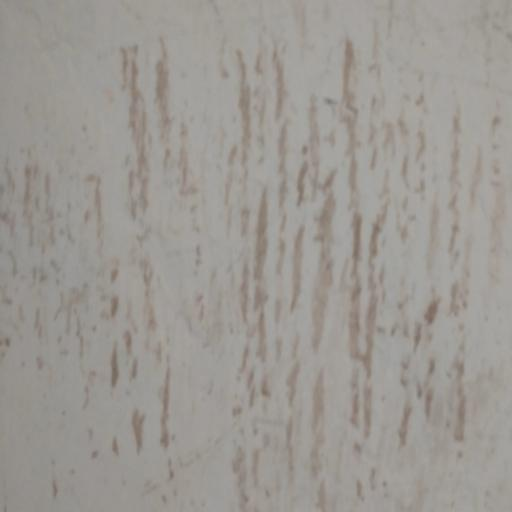stain: (18, 39, 512, 501)
